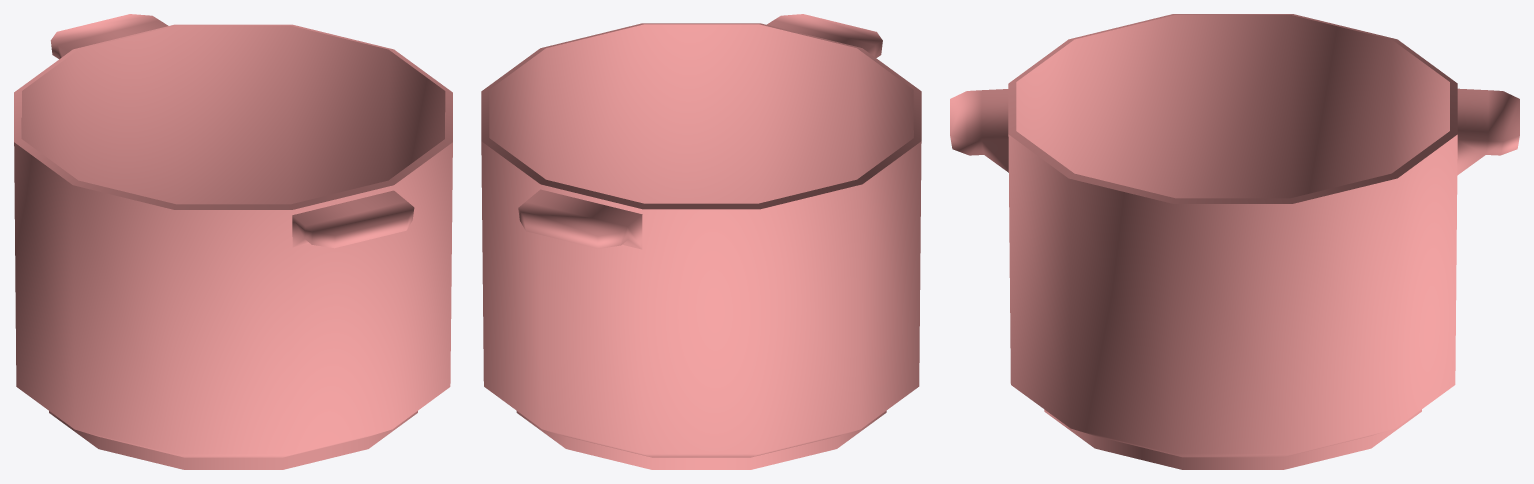
File: TFYK_saucepan.FBX
The picture shows the model from 3 angles, left to right: view 1: azimuth 30°, elevation 25°; view 2: azimuth 150°, elevation 25°; view 3: azimuth 270°, elevation 25°; orthographic projection. The views are drawn at different scales.
Parts seen in each view (by area): view 1: TFYK_saucepan; view 2: TFYK_saucepan; view 3: TFYK_saucepan.
Boxes of the visible parts, <box> form: TFYK_saucepan: <box>14,14,452,469</box>; TFYK_saucepan: <box>481,14,921,469</box>; TFYK_saucepan: <box>950,14,1519,469</box>.
Size of the model in its own units: 0.1898 by 0.1322 by 0.2408.
